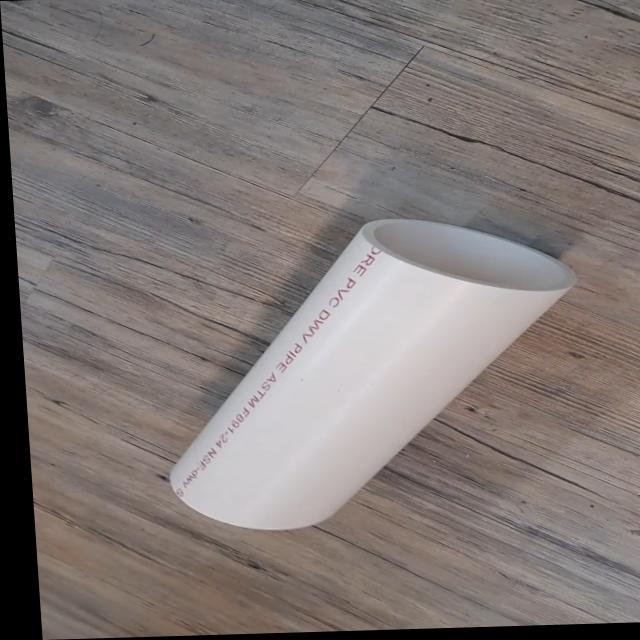CORAL: (142, 205, 606, 539)
